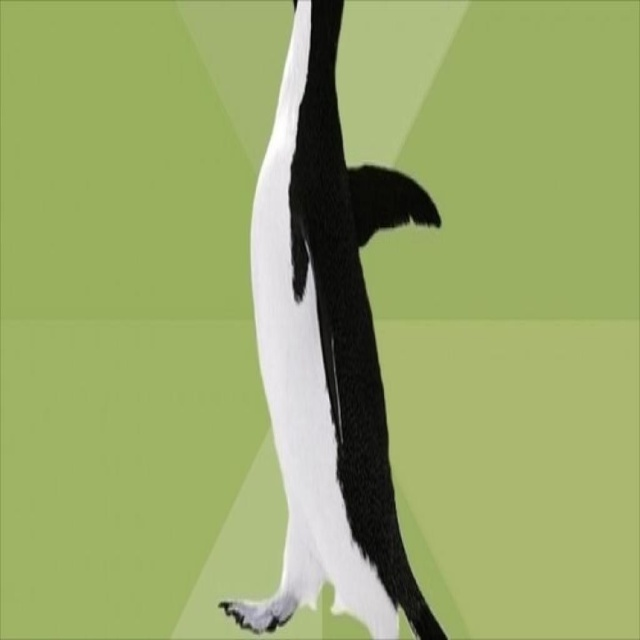Penguin: (217, 0, 449, 638)
